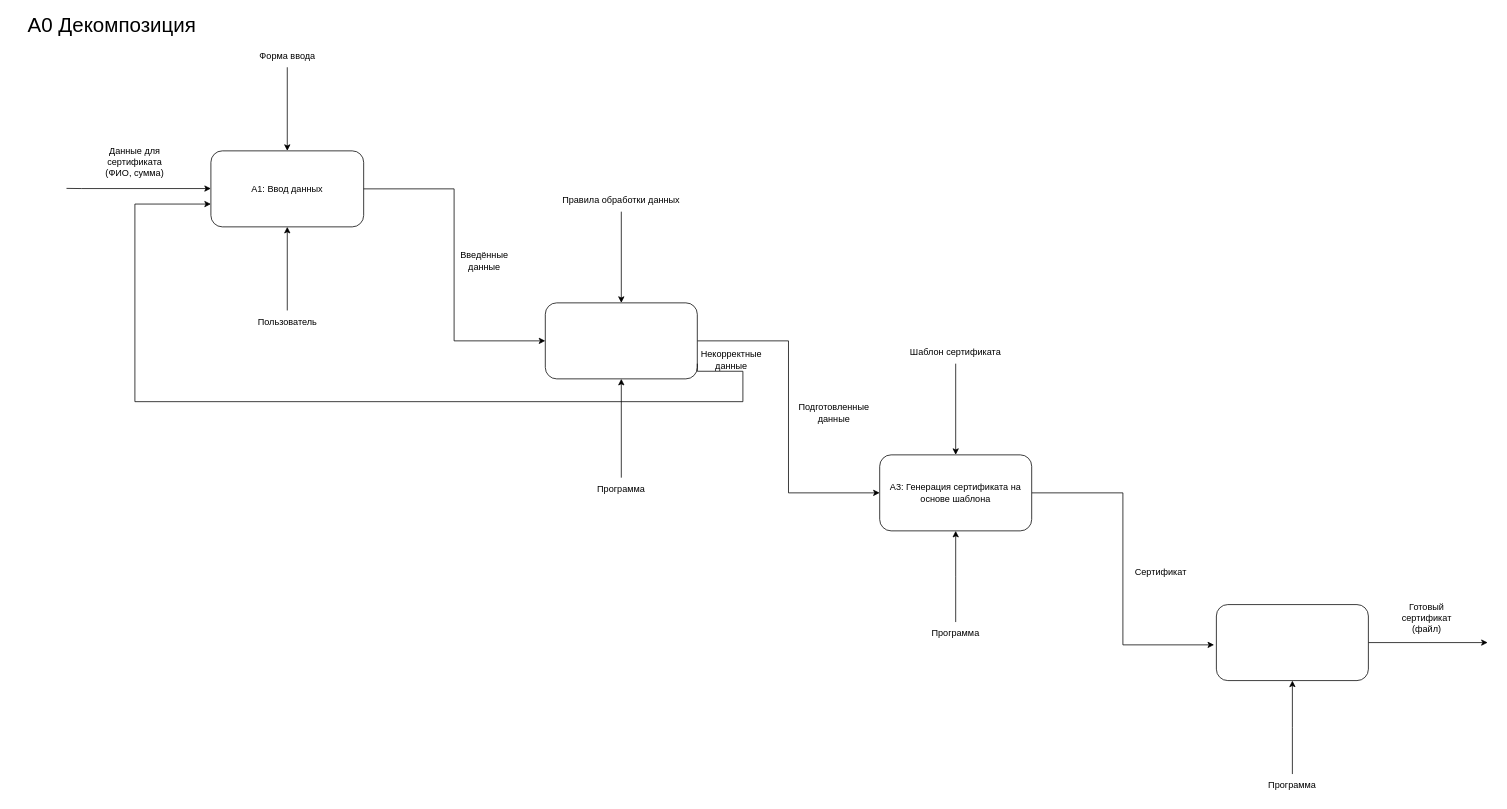
Some shapes in this 1507 by 809 pixel diagram are drawn without their labels. Each missing label, with the box of its shape:
A2: Проверка и форматирование данных: (545, 302, 697, 379)
A4: Сохранение сертификата: (1216, 604, 1368, 681)
